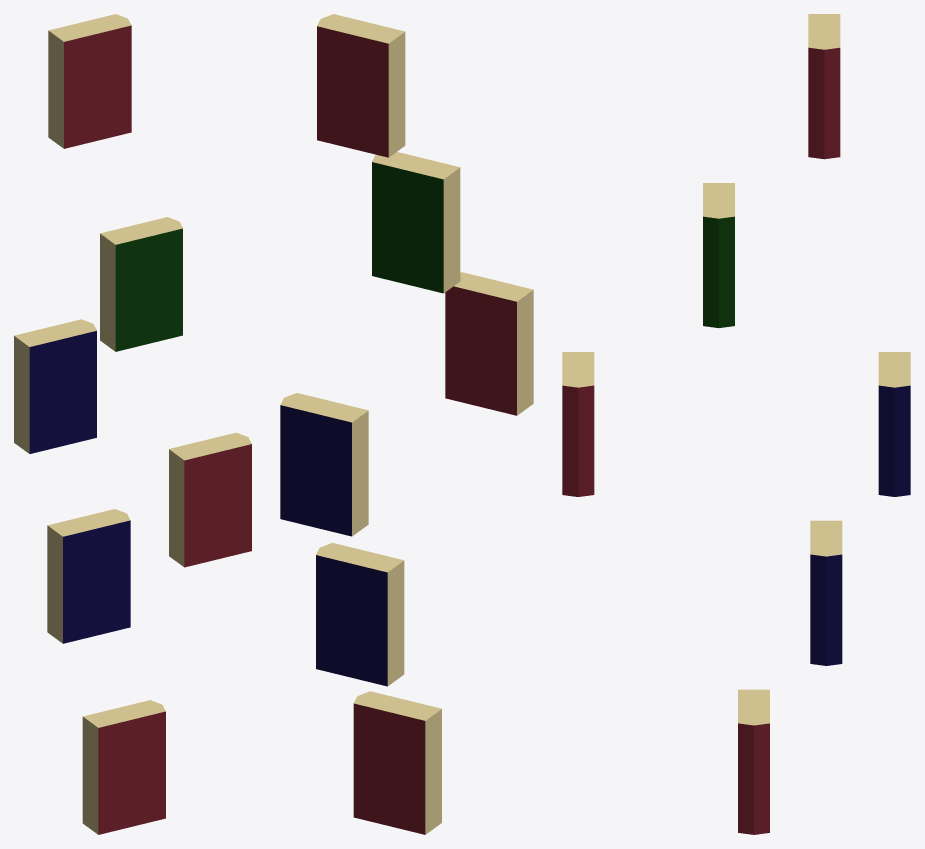
Rendered from Books.fbx.
3 renders of one model, left to right at view 1: azimuth 30°, elevation 25°; view 2: azimuth 150°, elevation 25°; view 3: azimuth 270°, elevation 25°, orthographic. The views are drawn at different scales.
Parts seen in each view (by area): view 1: Cube.061, Cube.010, Cube.022, Cube.028, Cube.037, Books.001; view 2: Cube.010, Cube.061, Cube.022, Cube.037, Books.001, Cube.028; view 3: Cube.022, Cube.061, Cube.028, Cube.037, Cube.010, Books.001.
Boxes of the visible parts, left/top/right/bottom form: Cube.061: left=48, top=14, right=131, bottom=148; Cube.010: left=82, top=700, right=165, bottom=834; Cube.022: left=47, top=509, right=130, bottom=643; Cube.028: left=169, top=432, right=251, bottom=567; Cube.037: left=14, top=319, right=96, bottom=453; Books.001: left=100, top=217, right=182, bottom=351; Cube.010: left=353, top=691, right=441, bottom=834; Cube.061: left=317, top=14, right=405, bottom=157; Cube.022: left=316, top=543, right=404, bottom=686; Cube.037: left=280, top=393, right=368, bottom=536; Books.001: left=372, top=152, right=460, bottom=293; Cube.028: left=445, top=272, right=533, bottom=415; Cube.022: left=810, top=520, right=842, bottom=665; Cube.061: left=808, top=14, right=840, bottom=159; Cube.028: left=562, top=352, right=594, bottom=496; Cube.037: left=878, top=352, right=910, bottom=496; Cube.010: left=738, top=689, right=769, bottom=834; Books.001: left=703, top=183, right=734, bottom=327.
Bounding box in the file's own units: 17.27 × 177 × 71.04.
